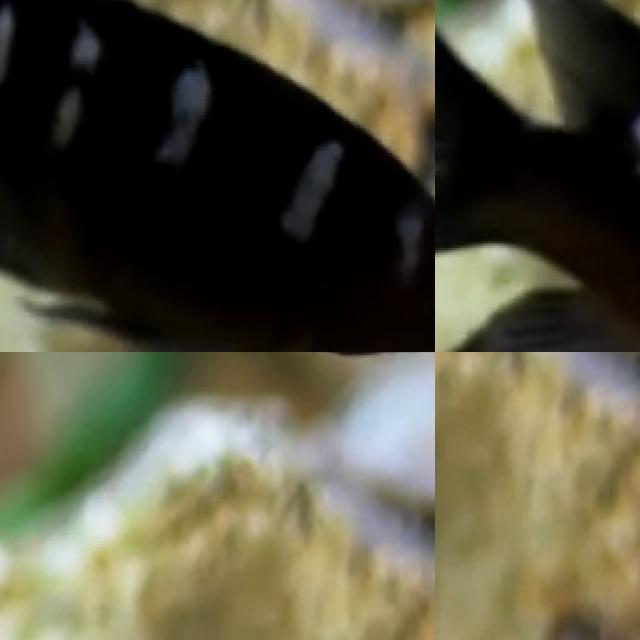fish: (0, 0, 435, 352), (435, 0, 640, 352), (82, 352, 435, 457)
